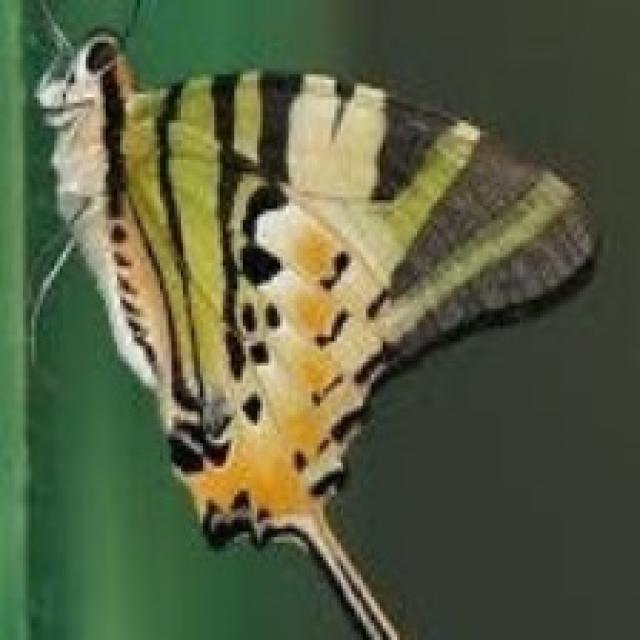butterfly: (23, 0, 600, 637)
